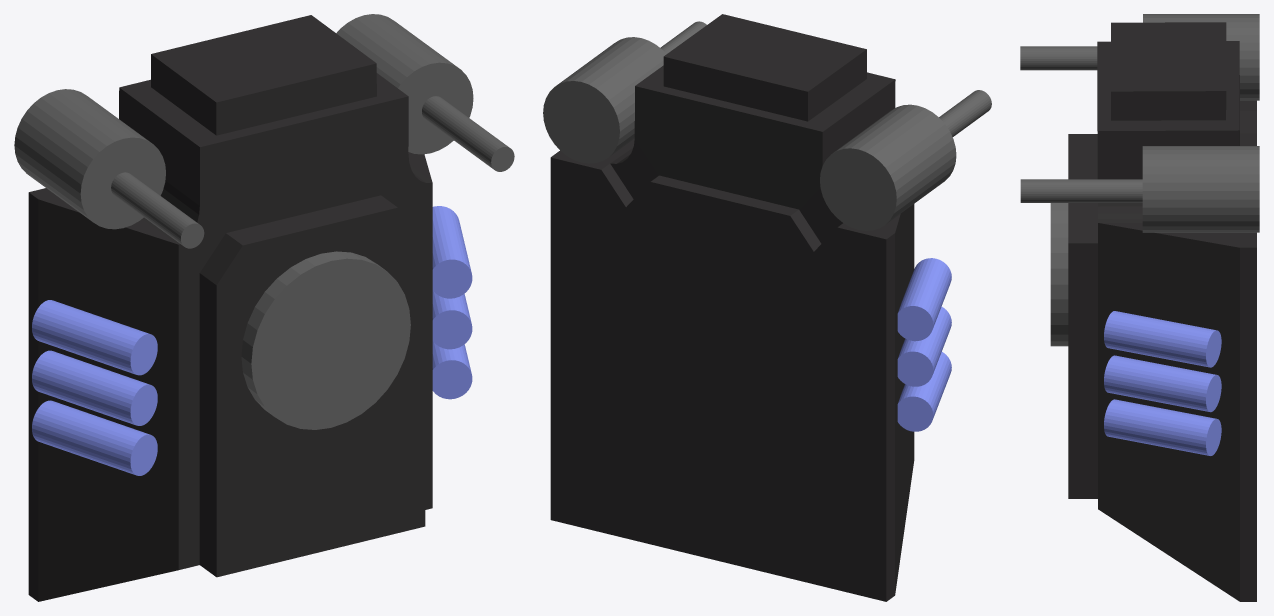
The model's file is topMine.fbx.
3 renders of one model, left to right at view 1: azimuth 30°, elevation 25°; view 2: azimuth 150°, elevation 25°; view 3: azimuth 270°, elevation 25°, orthographic. The views are drawn at different scales.
Parts seen in each view (by area): view 1: Cube.004; view 2: Cube.004; view 3: Cube.004.
Boxes of the visible parts, box(x1,y1,x2,y2) form: Cube.004: box(14, 14, 514, 601); Cube.004: box(543, 14, 991, 601); Cube.004: box(1020, 14, 1259, 601).
Bounding box in the file's own units: 256 × 303 × 142.
